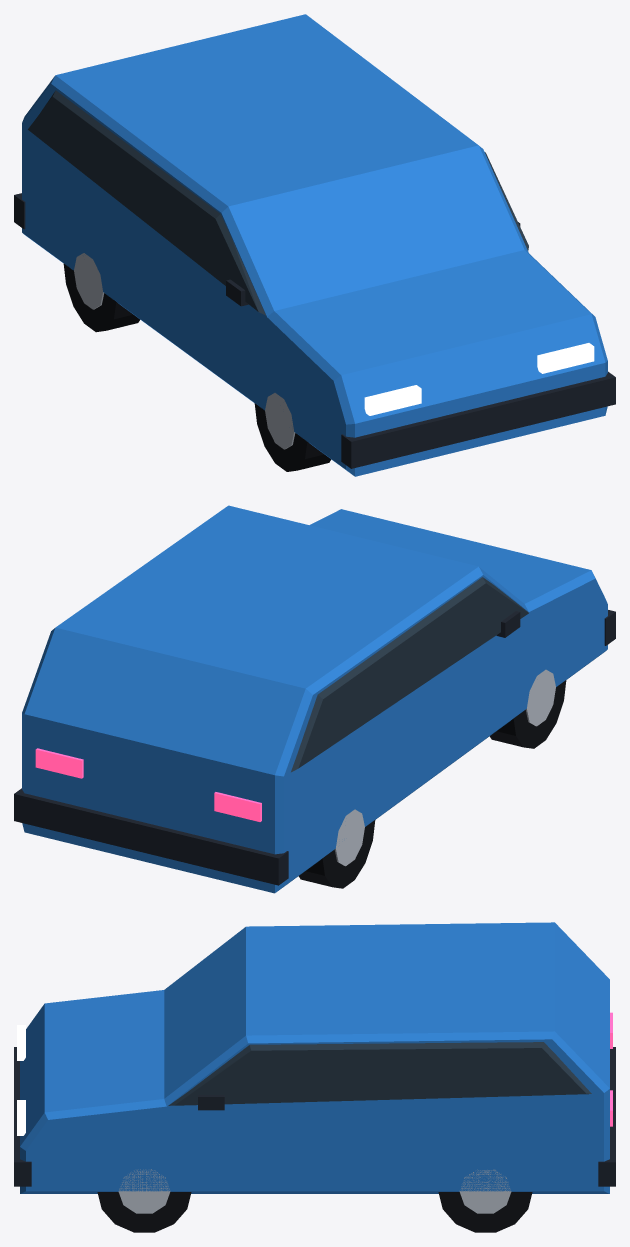
Rendered from car_hatch_blue.glb.
The picture shows the model from 3 angles, top to bottom: view 1: azimuth 30°, elevation 25°; view 2: azimuth 150°, elevation 25°; view 3: azimuth 270°, elevation 25°; orthographic projection. The views are drawn at different scales.
Visible parts, largest first — view 1: body; view 2: body; view 3: body.
Part boxes in pixels (x1,y1,x2,y2): body: [14, 14, 615, 476]; body: [14, 505, 615, 893]; body: [14, 922, 615, 1232].
Size of the model in its own units: 1.94 by 1.48 by 4.06.
